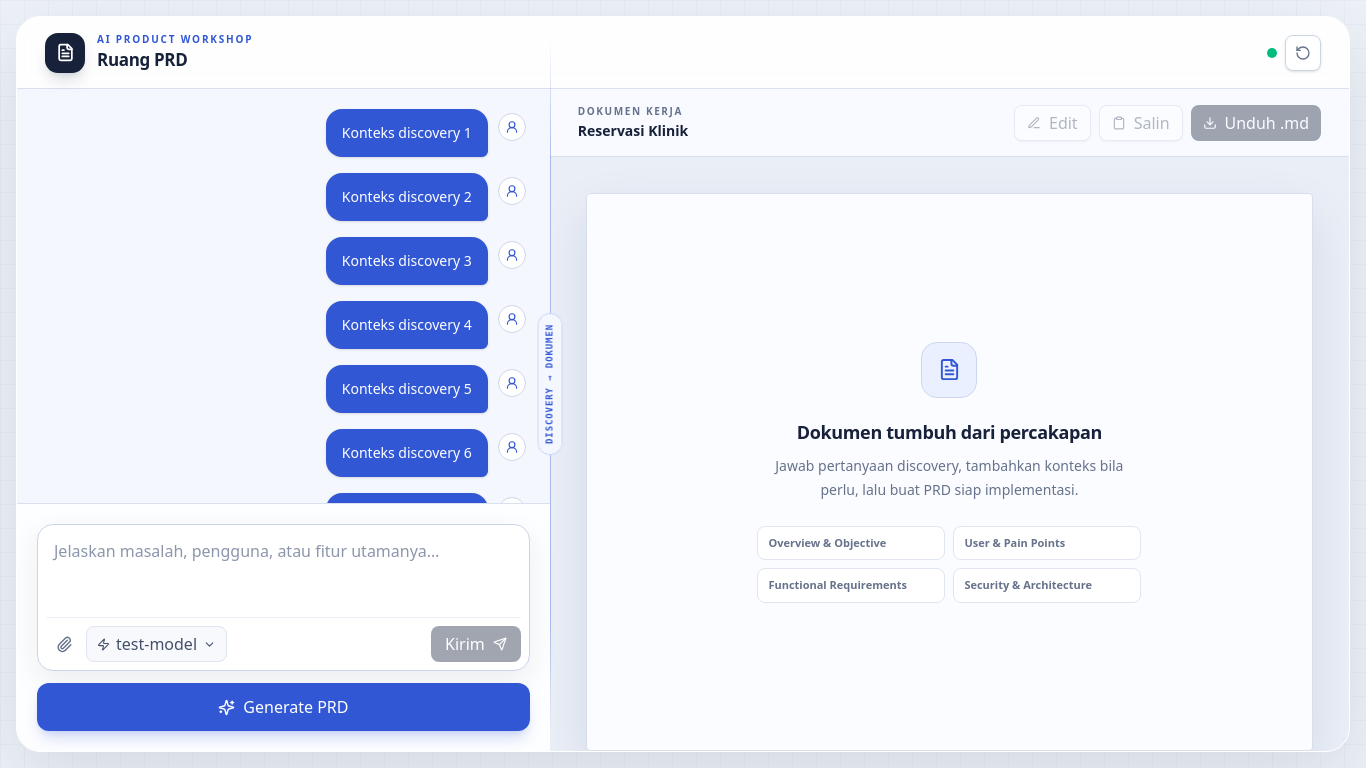
Ruang PRD › mengirim maksimal 20 pesan terbaru saat chat dan membuat PRD
The width and height of the screenshot is (1366, 768).
Click the button "Generate PRD". click: (283,707)
box: left=37, top=683, right=530, bottom=731
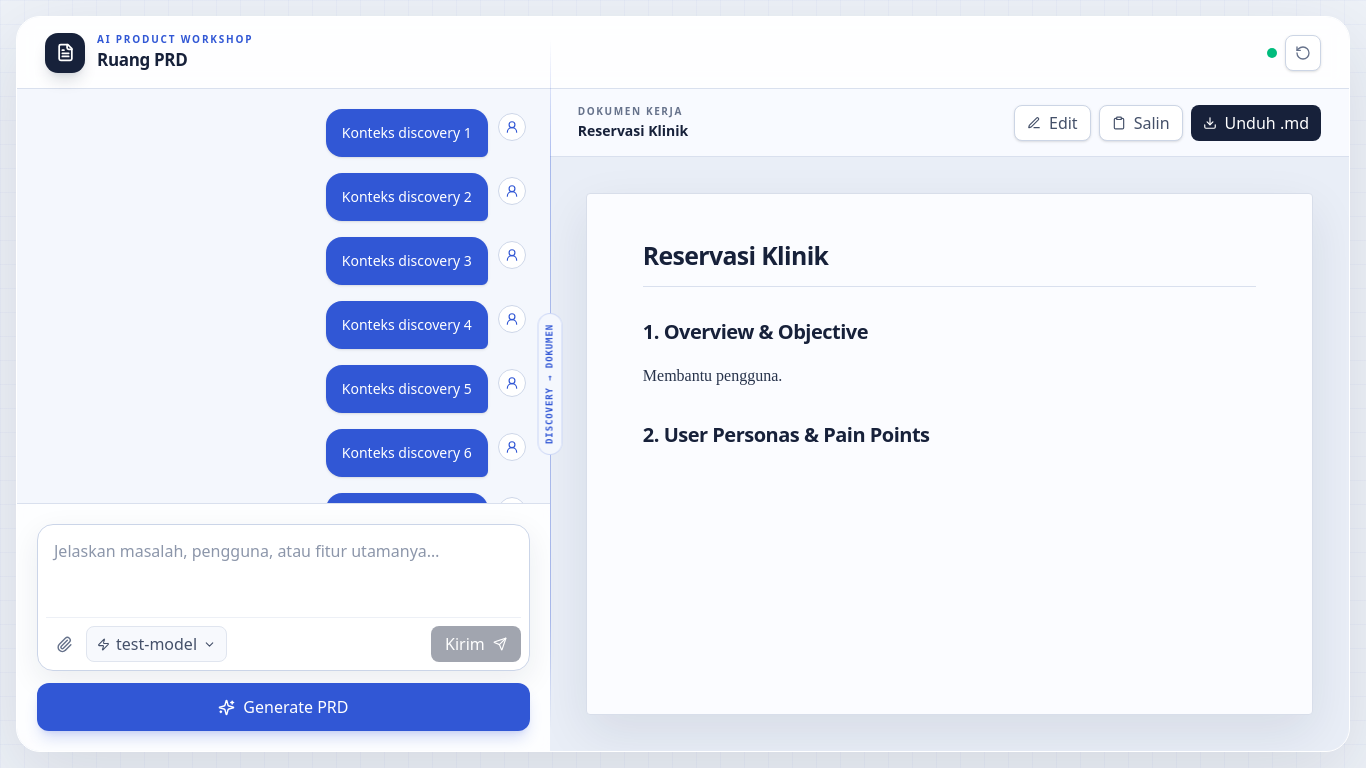
expect the heading "1. Overview & Objective" is shown: met, box left=643, top=318, right=868, bottom=345
